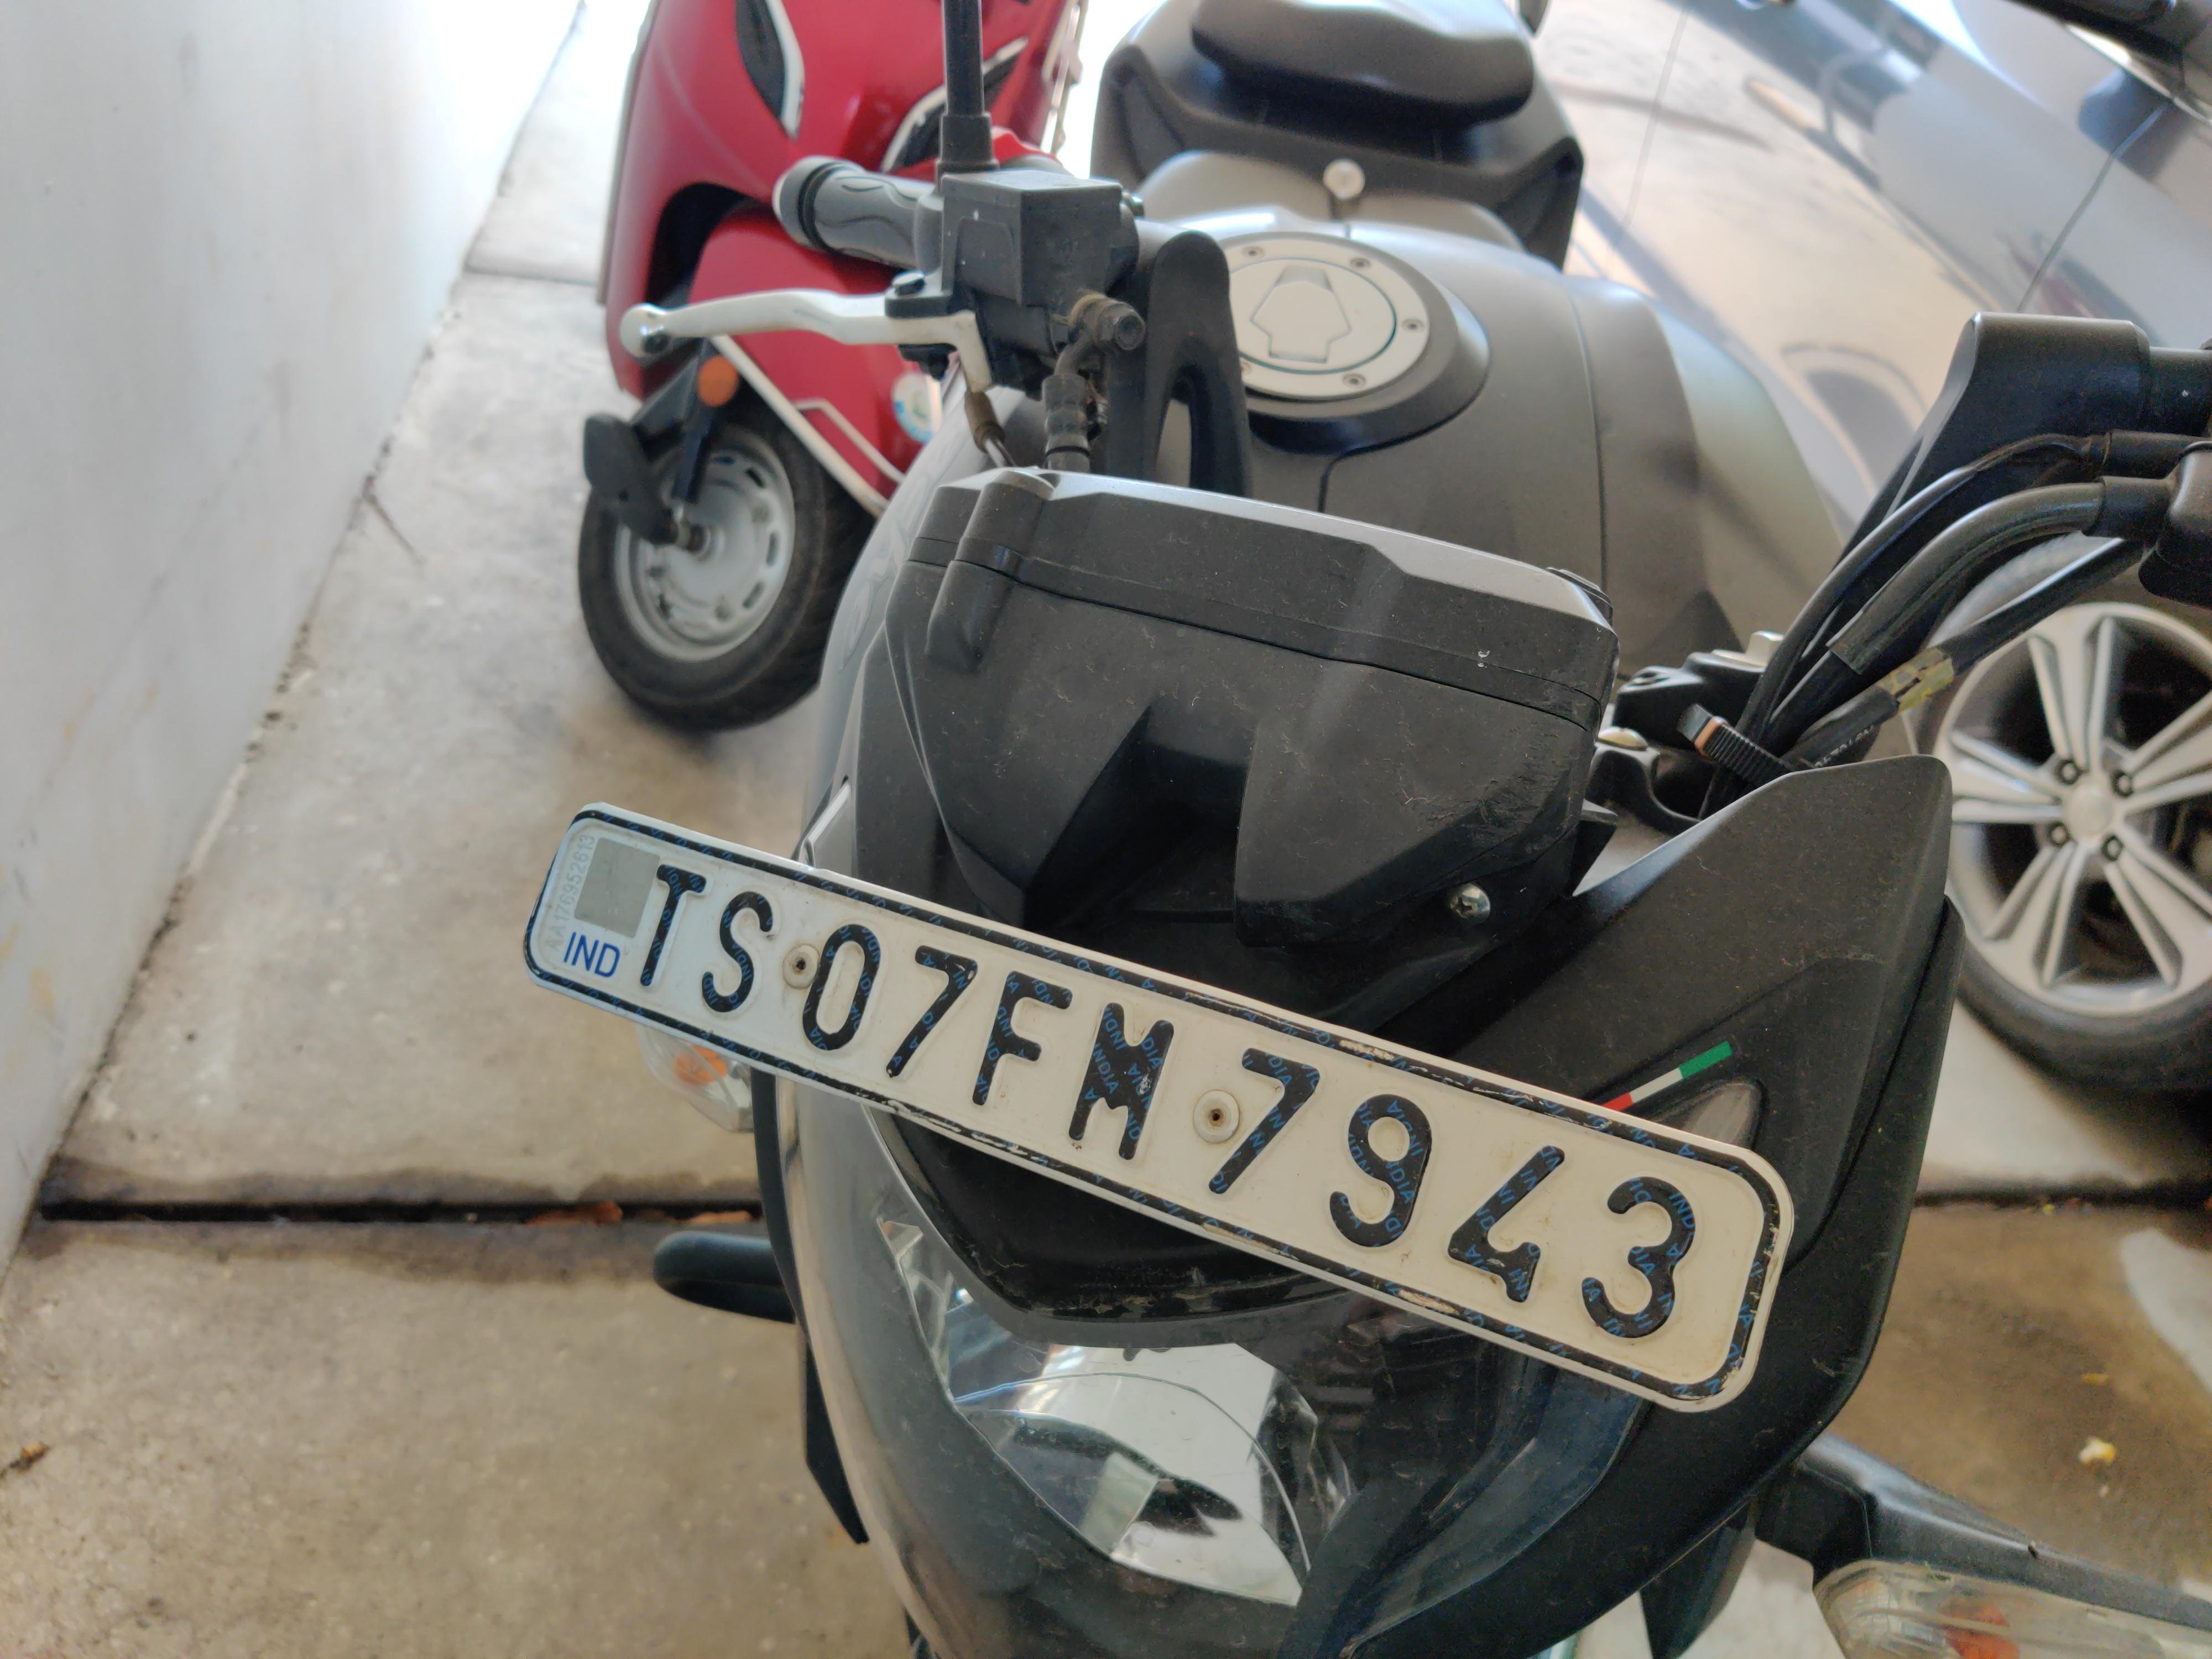plate: (512, 795, 1880, 1453)
